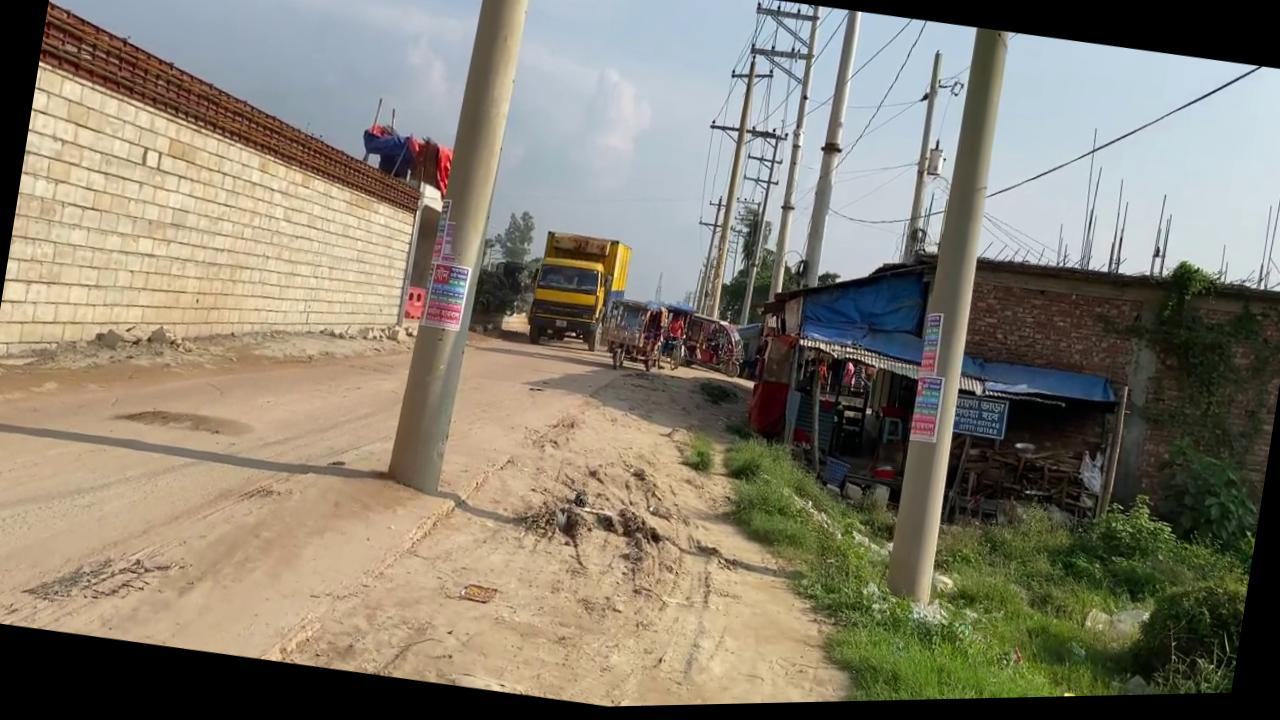Construction-barrier: (0, 0, 462, 422)
Pole: (880, 30, 1019, 611), (383, 0, 534, 499), (796, 12, 862, 295), (764, 8, 826, 305), (705, 55, 762, 323), (900, 52, 947, 266)
Pothole: (108, 396, 256, 445)
Rickshaw: (519, 359, 844, 711)
Tree: (522, 228, 634, 359)
